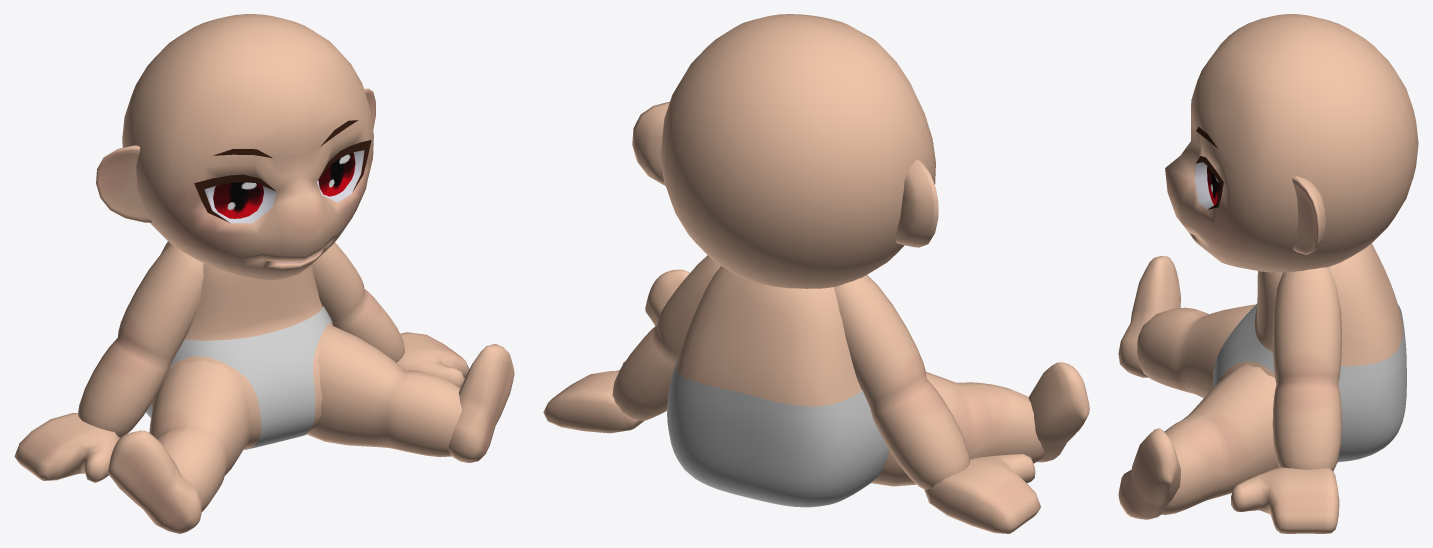
The model's file is HumanBaby.fbx.
The picture shows the model from 3 angles, left to right: view 1: azimuth 30°, elevation 25°; view 2: azimuth 150°, elevation 25°; view 3: azimuth 270°, elevation 25°; orthographic projection. The views are drawn at different scales.
Parts seen in each view (by area): view 1: Baby; view 2: Baby; view 3: Baby.
Boxes of the visible parts, bbox=[...] form: Baby: bbox=[14, 14, 514, 533]; Baby: bbox=[543, 14, 1089, 533]; Baby: bbox=[1118, 14, 1418, 533].
Bounding box in the file's own units: 387 × 356 × 231.
